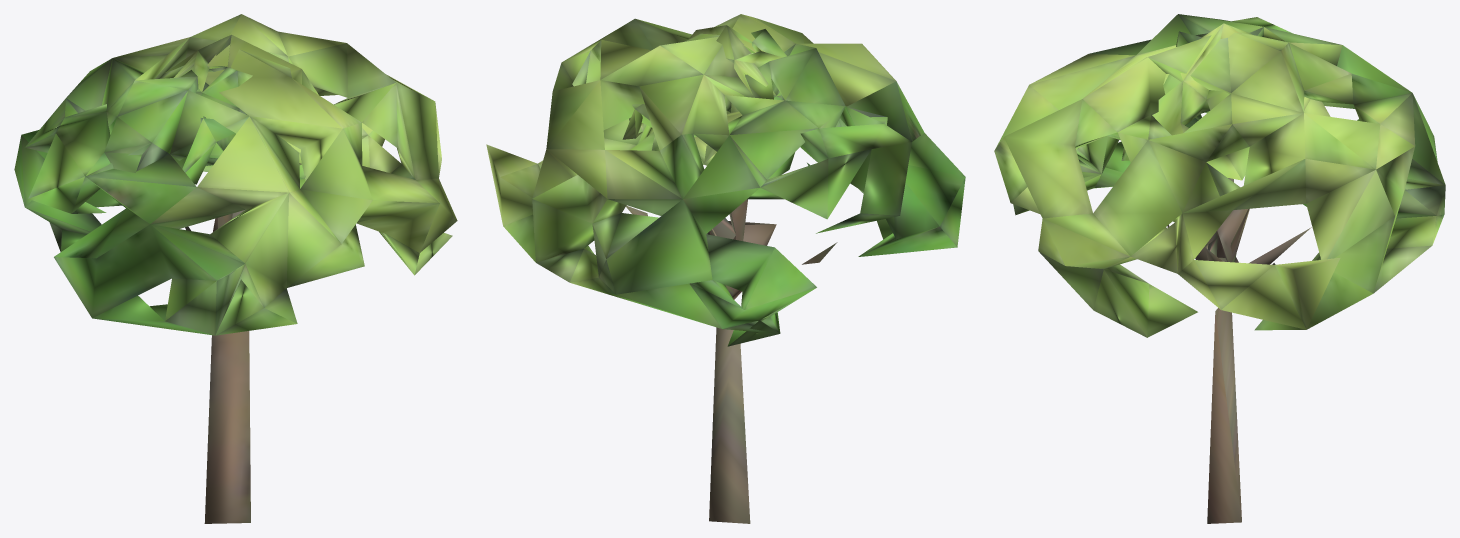
File: tree_round_a_far.glb
3 renders of one model, left to right at view 1: azimuth 30°, elevation 25°; view 2: azimuth 150°, elevation 25°; view 3: azimuth 270°, elevation 25°, orthographic. The views are drawn at different scales.
Visible parts, largest first — view 1: body; view 2: body; view 3: body.
Boxes of the visible parts, box(x1,y1,x2,y2) form: body: box(14, 14, 457, 523); body: box(486, 14, 965, 523); body: box(994, 14, 1445, 523).
Size of the model in its own units: 4.64 by 5.41 by 4.47.
Materials: 2 (2 with a texture image).
